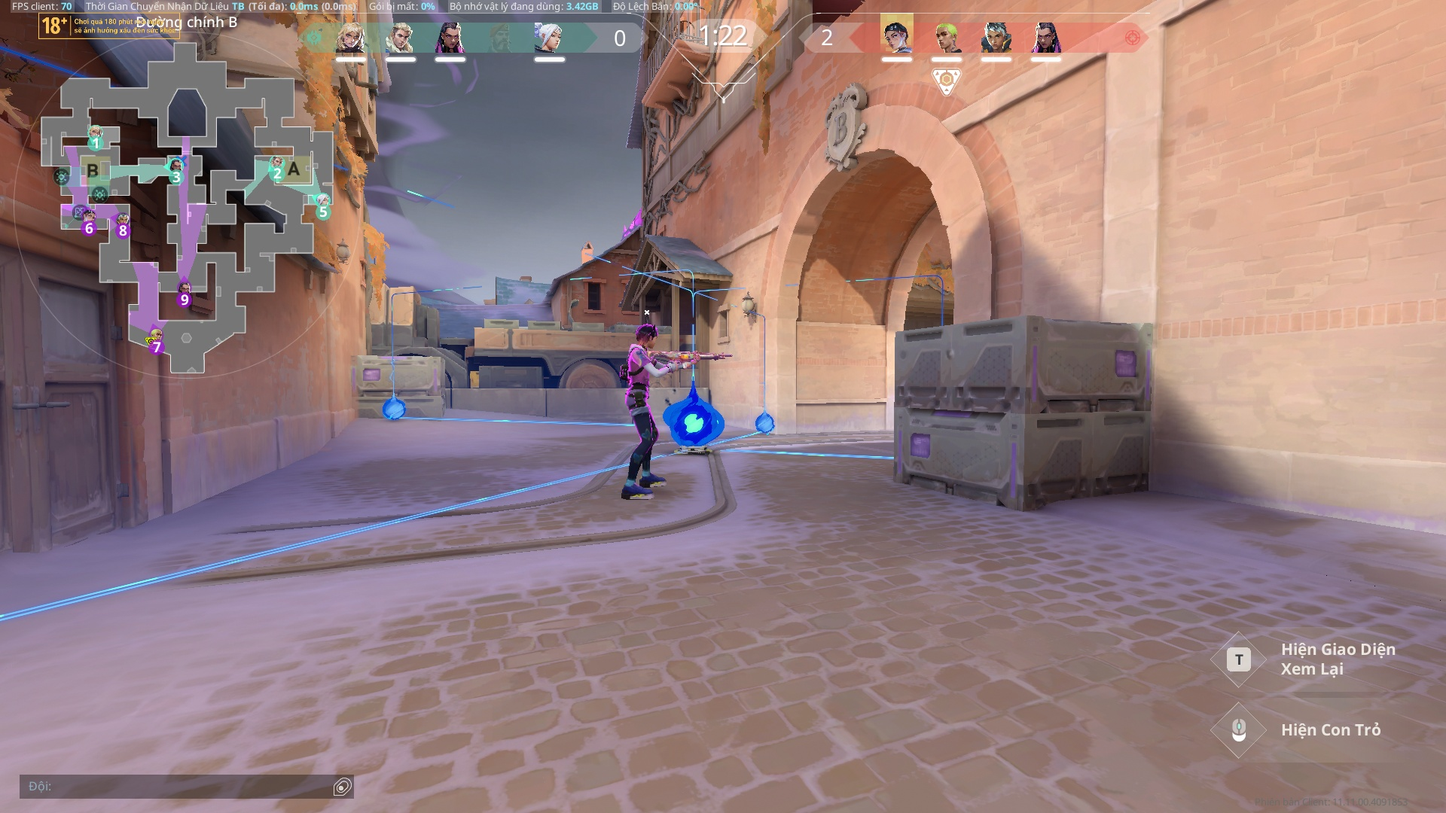body: (622, 343, 650, 388)
head: (635, 323, 655, 349)
